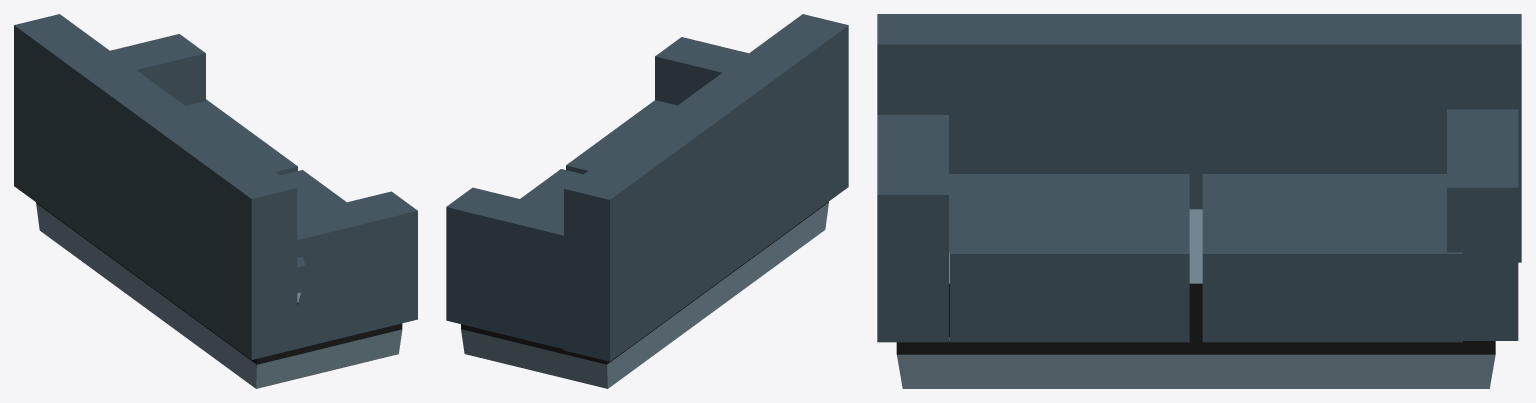
Rendered from sofa ORIGIN.fbx.
3 views of the same model, side by side, from view 1: azimuth 30°, elevation 25°; view 2: azimuth 150°, elevation 25°; view 3: azimuth 270°, elevation 25° (orthographic). The views are drawn at different scales.
Parts seen in each view (by area): view 1: group696643633.011, group696643633.014, group696643633.008, group696643633.004, group696643633.051, group696643633.061, group696643633.006, group696643633.067, group696643633.053, group696643633.027, group696643633.026, group696643633.007 (+55 smaller); view 2: group696643633.017, group696643633.004, group696643633.008, group696643633.067, group696643633.018, group696643633.011, group696643633.006, group696643633.065, group696643633.007, group696643633.066, group696643633.009, group696643633.001 (+59 smaller); view 3: group696643633.081, group696643633.092, group696643633.093, group696643633.087, group696643633.086, group696643633.098, group696643633.094, group696643633.008, group696643633.067, group696643633.006, group696643633.011, group696643633.004 (+38 smaller).
Boxes of the visible parts, <box> form: group696643633.011: <box>215,161,297,225</box>; group696643633.014: <box>221,224,297,290</box>; group696643633.008: <box>146,110,223,195</box>; group696643633.004: <box>14,14,98,69</box>; group696643633.051: <box>297,207,352,271</box>; group696643633.061: <box>297,245,373,307</box>; group696643633.006: <box>78,74,169,142</box>; group696643633.067: <box>145,34,205,105</box>; group696643633.053: <box>327,199,393,262</box>; group696643633.027: <box>230,312,297,359</box>; group696643633.026: <box>230,279,297,323</box>; group696643633.007: <box>117,94,190,158</box>; group696643633.017: <box>564,223,659,296</box>; group696643633.004: <box>564,160,648,223</box>; group696643633.008: <box>697,68,786,153</box>; group696643633.067: <box>446,187,506,269</box>; group696643633.018: <box>564,264,642,330</box>; group696643633.011: <box>766,14,848,70</box>; group696643633.006: <box>647,108,720,191</box>; group696643633.065: <box>511,204,563,266</box>; group696643633.007: <box>675,92,750,156</box>; group696643633.066: <box>477,196,541,259</box>; group696643633.009: <box>729,53,807,126</box>; group696643633.001: <box>603,128,692,171</box>; group696643633.081: <box>1382,211,1495,388</box>; group696643633.092: <box>1118,201,1248,388</box>; group696643633.093: <box>1066,202,1143,388</box>; group696643633.087: <box>1247,203,1335,388</box>; group696643633.086: <box>1292,224,1385,388</box>; group696643633.098: <box>896,221,1007,388</box>; group696643633.094: <box>980,215,1070,388</box>; group696643633.008: <box>1045,14,1164,125</box>; group696643633.067: <box>1447,165,1518,272</box>; group696643633.006: <box>1223,14,1346,97</box>; group696643633.011: <box>877,14,976,86</box>; group696643633.004: <box>1416,14,1521,82</box>.
Size of the model in its own units: 96.97 by 112 by 240.
